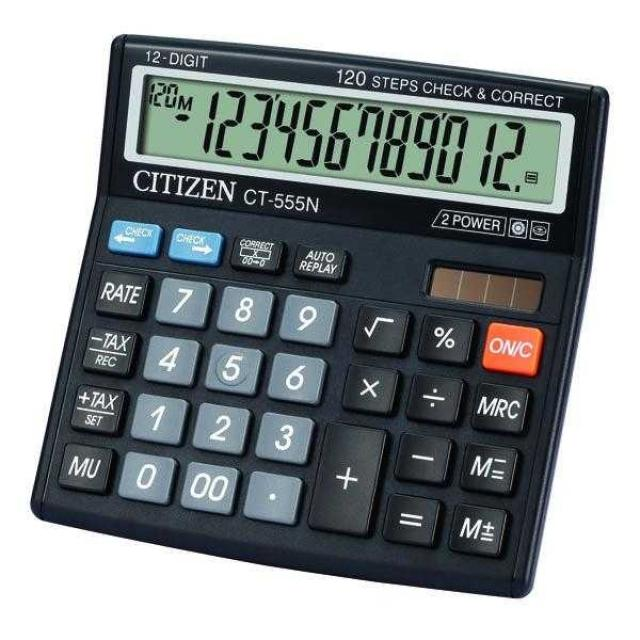Calculator: (29, 31, 610, 598)
